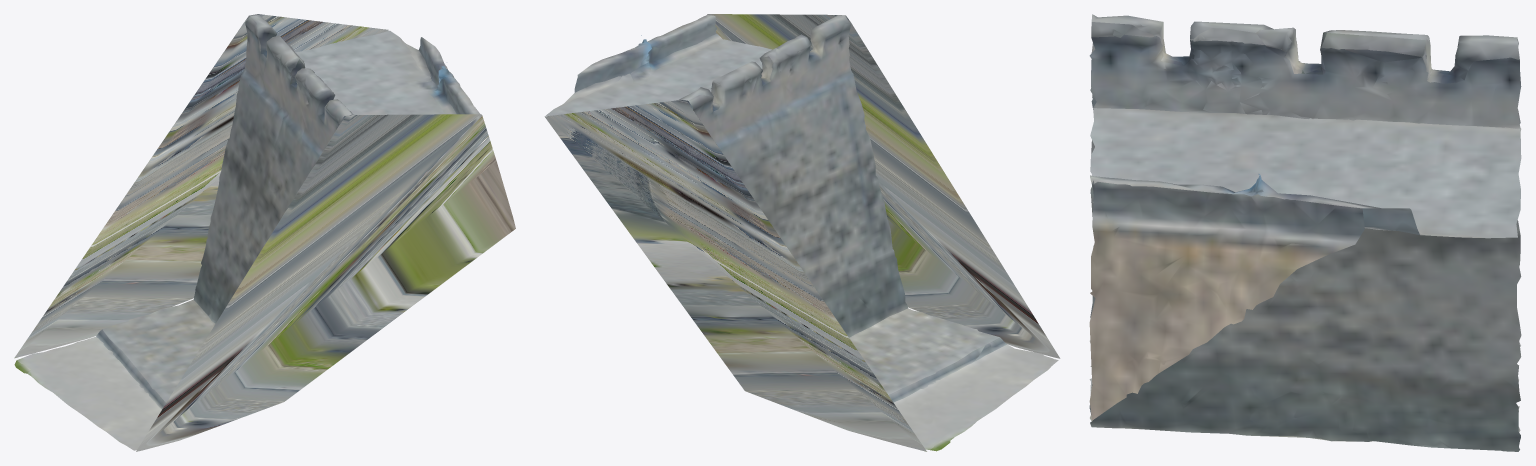
Rendered from pingyao-reference-3b14a33b1fab.glb.
3 views of the same model, side by side, from view 1: azimuth 30°, elevation 25°; view 2: azimuth 150°, elevation 25°; view 3: azimuth 270°, elevation 25° (orthographic). The views are drawn at different scales.
Parts seen in each view (by area): view 1: Pingyao crenellated wall segment; view 2: Pingyao crenellated wall segment; view 3: Pingyao crenellated wall segment.
Boxes of the visible parts, x1,y1,x2,y2 form: Pingyao crenellated wall segment: (14,14,515,451); Pingyao crenellated wall segment: (544,14,1060,451); Pingyao crenellated wall segment: (1089,14,1521,451).
Bounding box in the file's own units: 14 × 10.06 × 8.
1 material, 1 textured.
